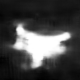plane: (10, 21, 74, 70)
